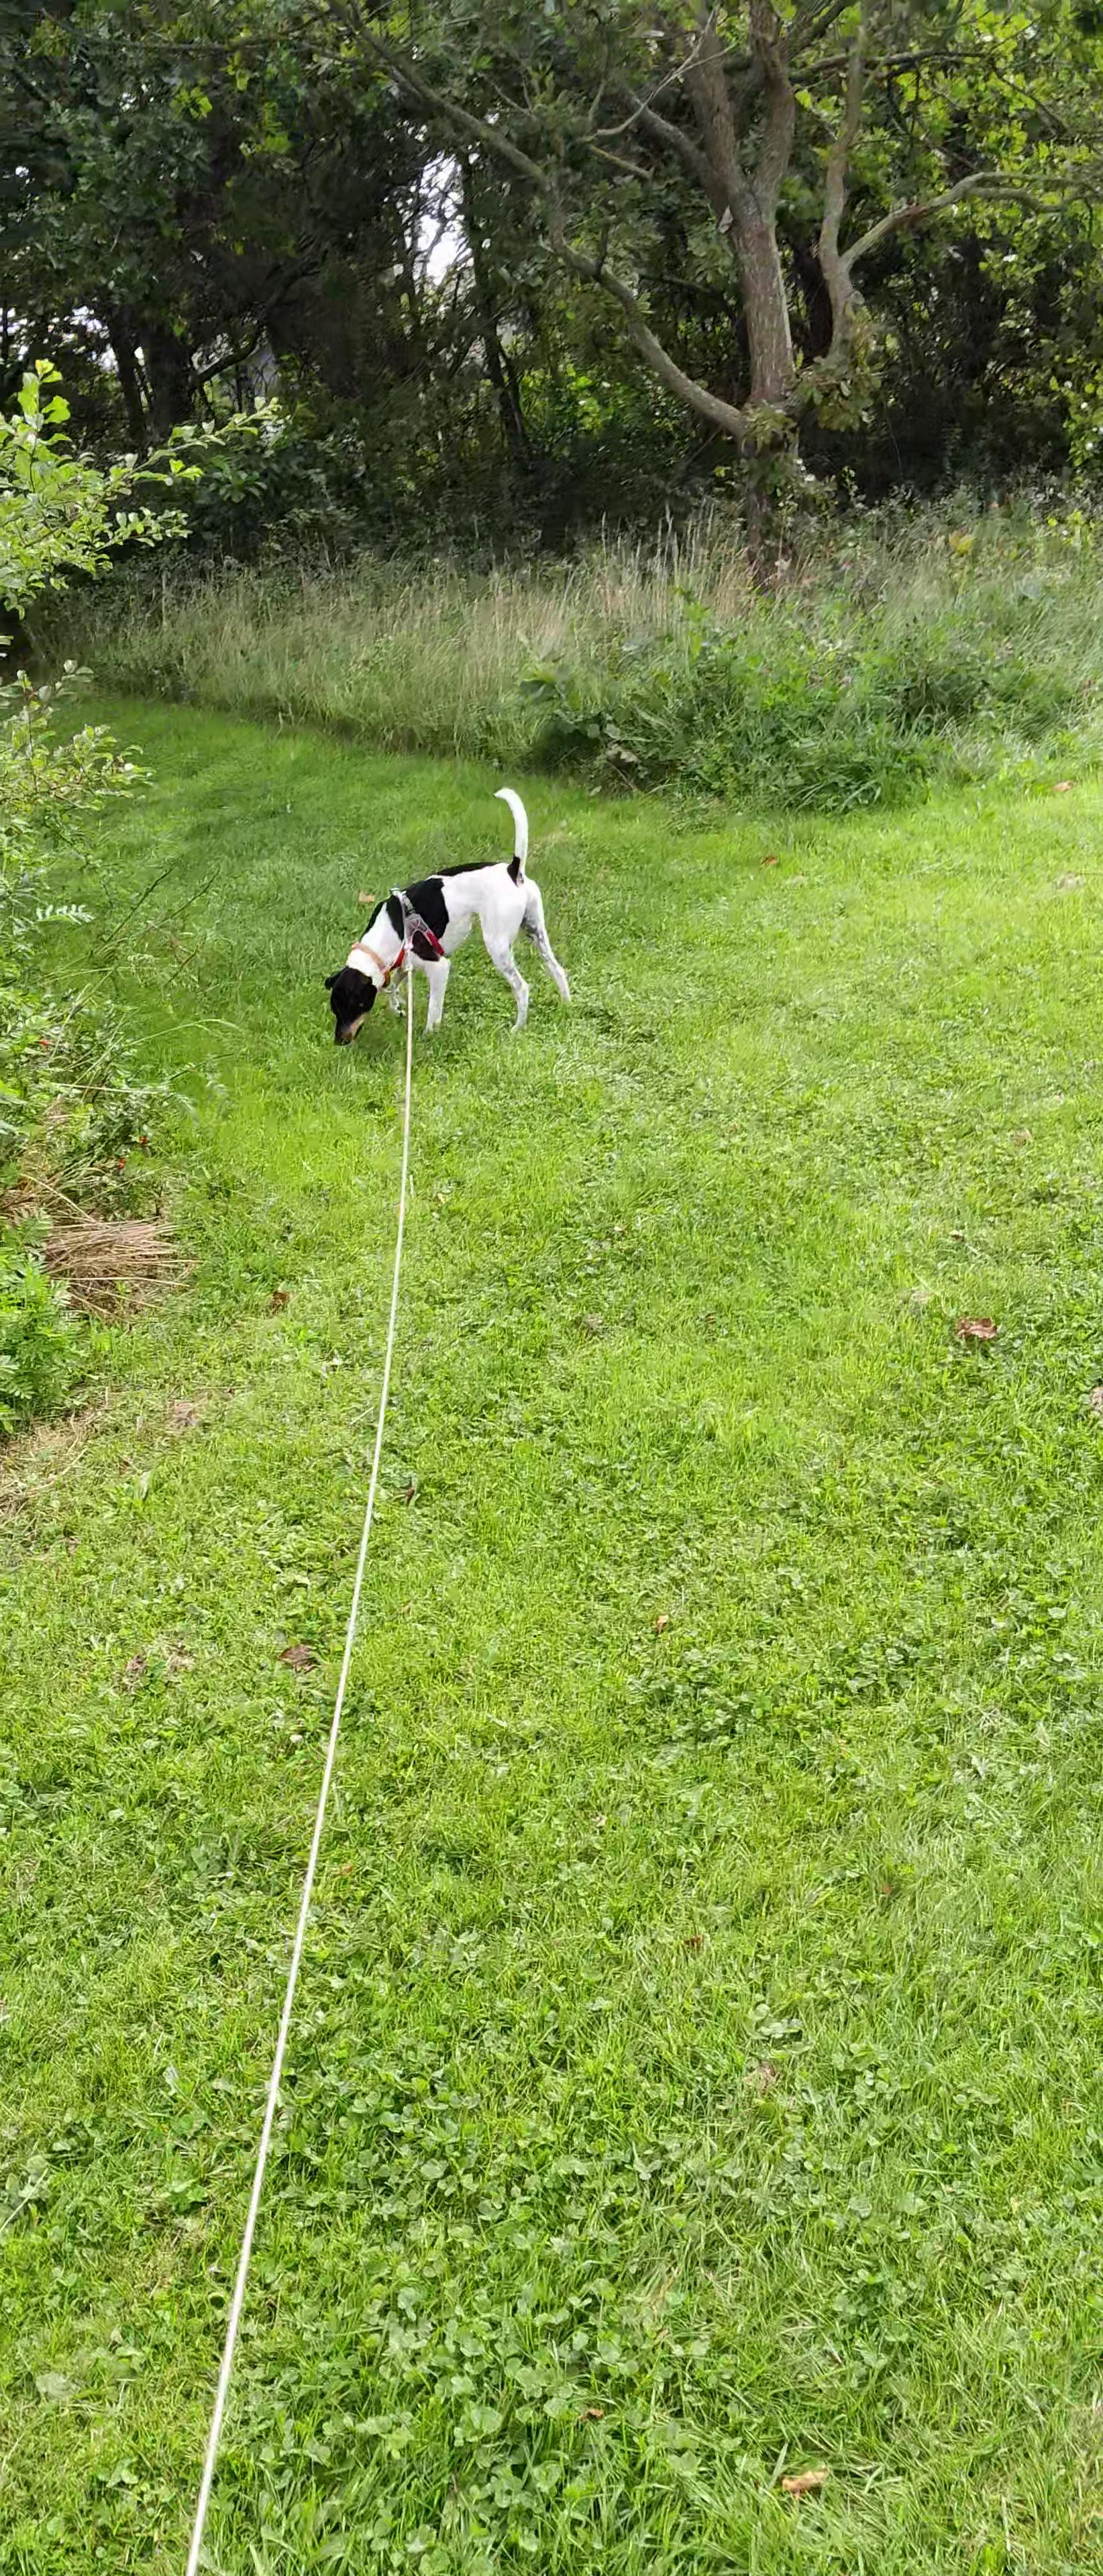Dog: (317, 779, 582, 1053)
